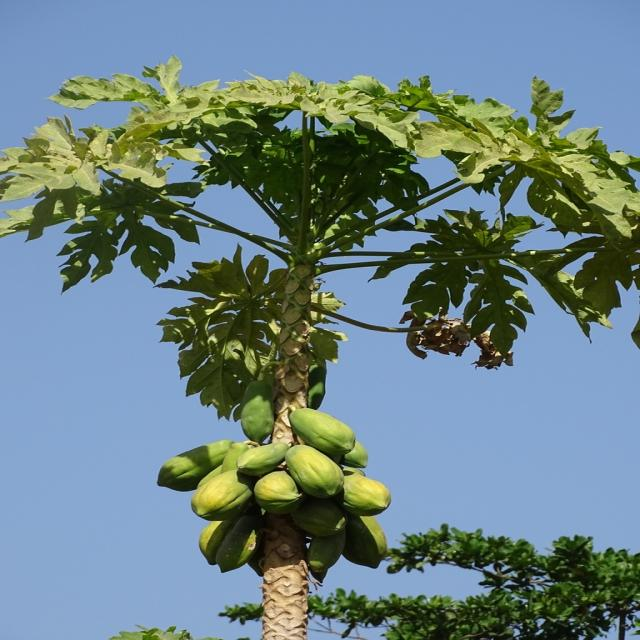Papaya-Tree: (18, 48, 593, 632)
